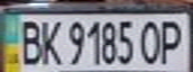1: (84, 17, 103, 65)
5: (115, 17, 139, 65)
8: (100, 17, 121, 65)
9: (63, 17, 87, 65)
B: (15, 16, 45, 66)
K: (36, 16, 63, 66)
O: (136, 17, 163, 65)
P: (157, 16, 187, 65)
